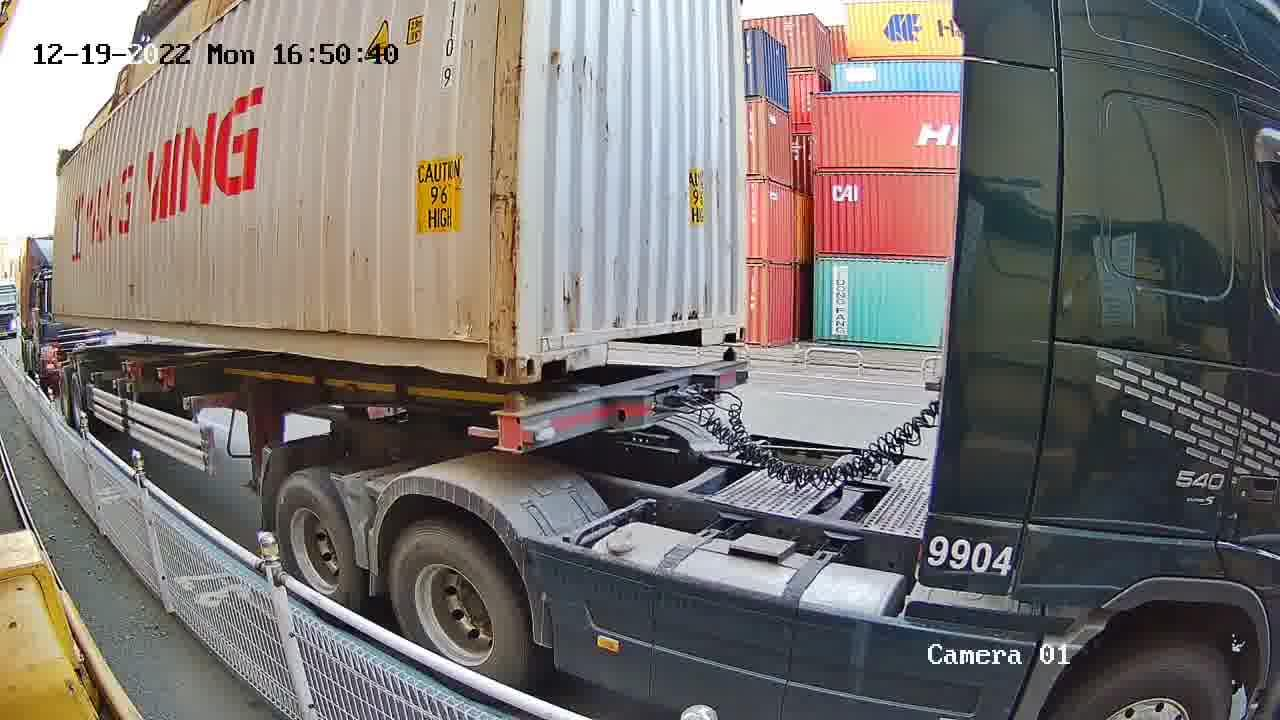Chassis: (493, 359, 744, 449)
Cone: (501, 392, 524, 448), (720, 347, 739, 363)
Hole_L: (514, 321, 567, 382)
Hole_R: (451, 321, 514, 385), (715, 304, 747, 343)
Tire: (394, 528, 521, 676), (279, 479, 354, 600)
